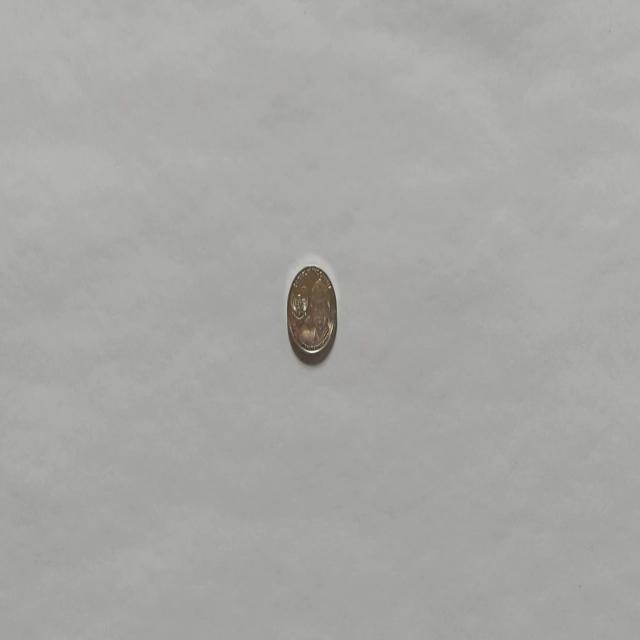dua ratus rupiah: (285, 263, 337, 362)
